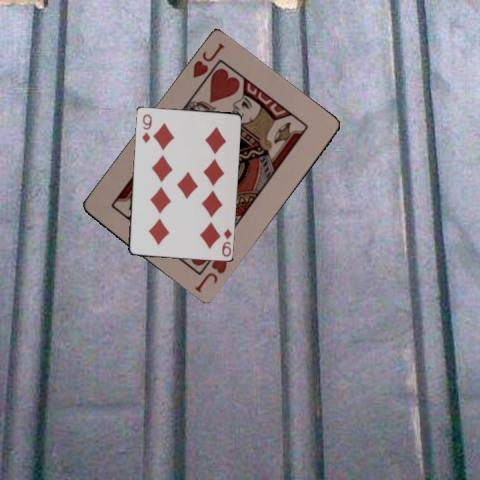9d: (138, 111, 152, 144), (219, 225, 232, 258)
Jh: (191, 253, 229, 294), (189, 40, 226, 81)
